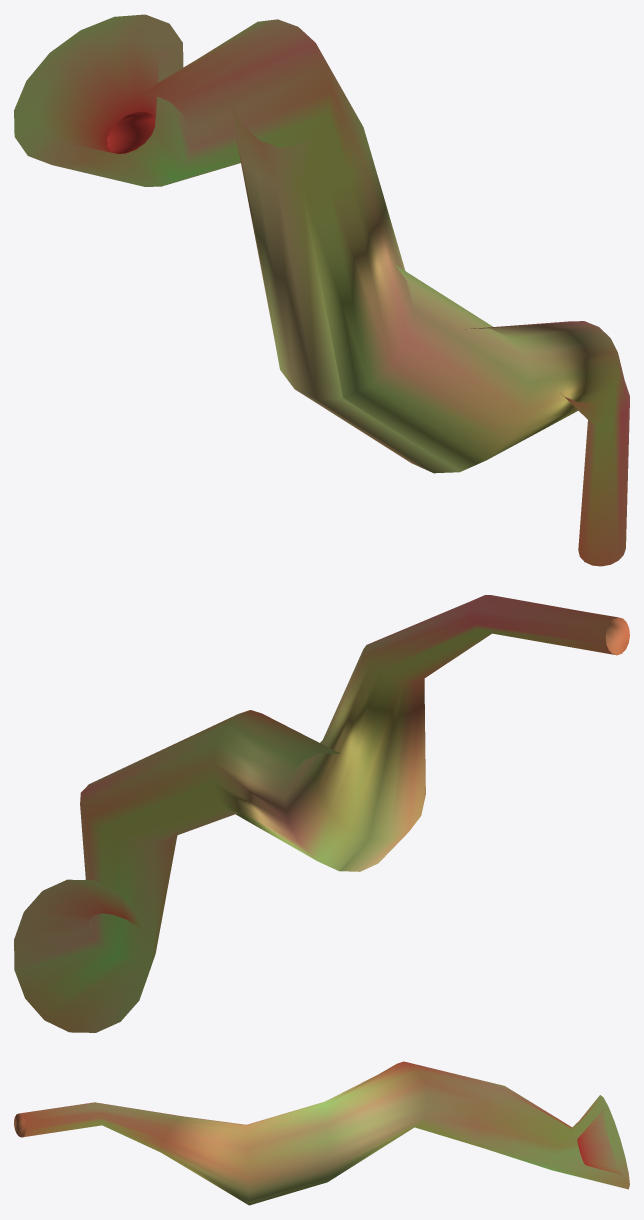
File: slurper.glb
The picture shows the model from 3 angles, top to bottom: view 1: azimuth 30°, elevation 25°; view 2: azimuth 150°, elevation 25°; view 3: azimuth 270°, elevation 25°; orthographic projection. The views are drawn at different scales.
Parts seen in each view (by area): view 1: Slurper; view 2: Slurper; view 3: Slurper.
Part boxes in pixels (x1,y1,x2,y2): Slurper: (14, 14, 629, 566); Slurper: (14, 595, 629, 1032); Slurper: (14, 1061, 629, 1205).
Bounding box in the file's own units: 0.3018 × 0.3448 × 1.42.
